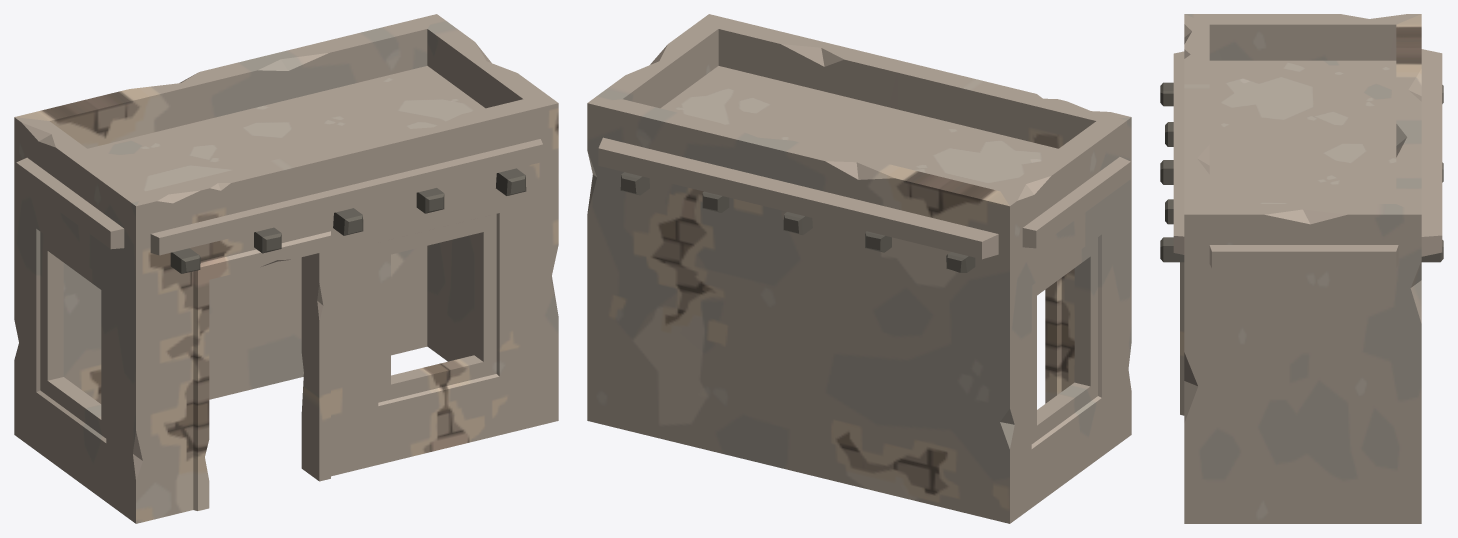
The model's file is SM_Bld_Village_House_07.glb.
3 views of the same model, side by side, from view 1: azimuth 30°, elevation 25°; view 2: azimuth 150°, elevation 25°; view 3: azimuth 270°, elevation 25° (orthographic). The views are drawn at different scales.
Visible parts, largest first — view 1: SM_Bld_Village_House_07; view 2: SM_Bld_Village_House_07; view 3: SM_Bld_Village_House_07.
Boxes of the visible parts, <box> form: SM_Bld_Village_House_07: <box>14,14,558,523</box>; SM_Bld_Village_House_07: <box>587,14,1131,523</box>; SM_Bld_Village_House_07: <box>1160,14,1443,523</box>.
Size of the model in its own units: 5 by 3.39 by 2.82.
Materials: 1 (1 with a texture image).
